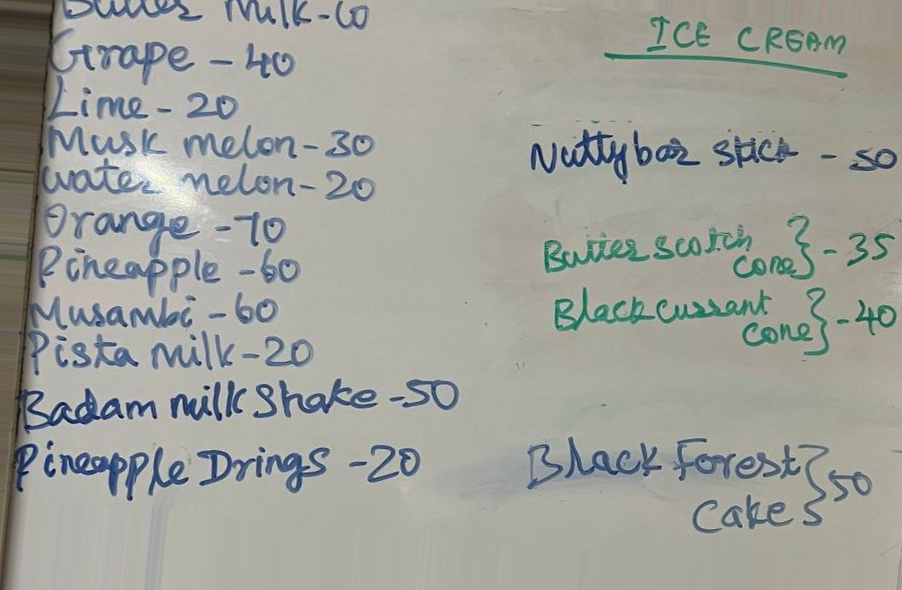badam milkshake - 50: (19, 378, 462, 436)
black current cone - 40: (551, 286, 900, 360)
black forest cake - 50: (523, 433, 876, 536)
butterscotch cone - 35: (540, 213, 899, 284)
grape - 40: (48, 26, 298, 86)
lime - 20: (47, 78, 243, 124)
musambi - 60: (25, 285, 288, 332)
musk melon - 30: (41, 118, 382, 164)
nutty bar - 30: (525, 124, 899, 189)
orange - 70: (36, 201, 289, 245)
pineapple - 60: (30, 243, 307, 293)
pineapple drink - 20: (12, 440, 424, 495)
pista milk - 20: (26, 326, 325, 378)
water melon - 20: (37, 160, 381, 206)
